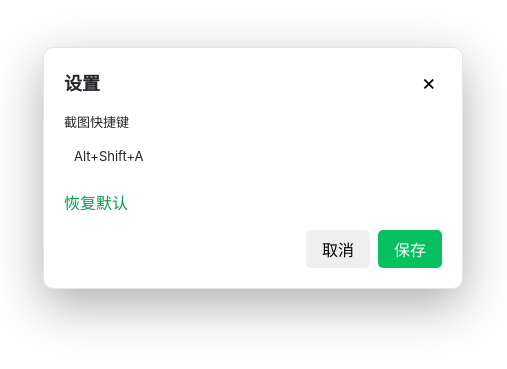
Test case: SettingsPanel › records a combination, reports conflicts, and restores the default shortcut
Press X in the button with aria-label "录制快捷键", box [64,138,442,174]
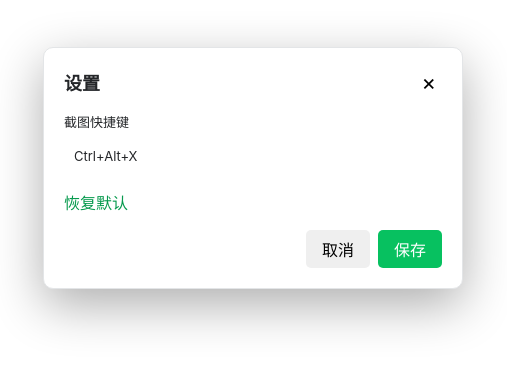
Check: the button with aria-label "录制快捷键" reads "Ctrl+Alt+X", box [64,138,442,174]
Click the button with aria-label "保存设置". click: (410, 249)
box: [378,230,442,268]
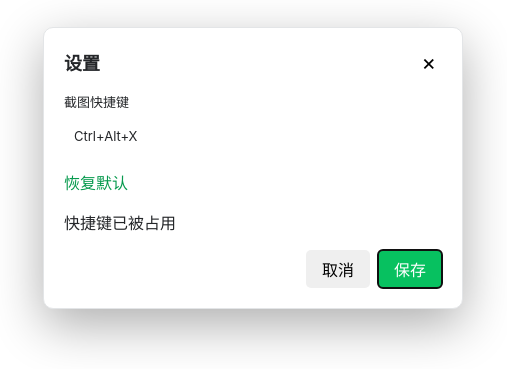
Check: the message reads "快捷键已被占用", box [64,213,176,233]
Click the button with aria-label "恢复默认快捷键". click: (96, 182)
box: [64,170,128,194]
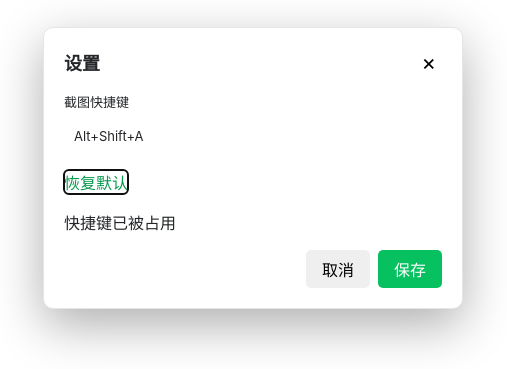
Check: the button with aria-label "录制快捷键" reads "Alt+Shift+A", box [64,118,442,154]
